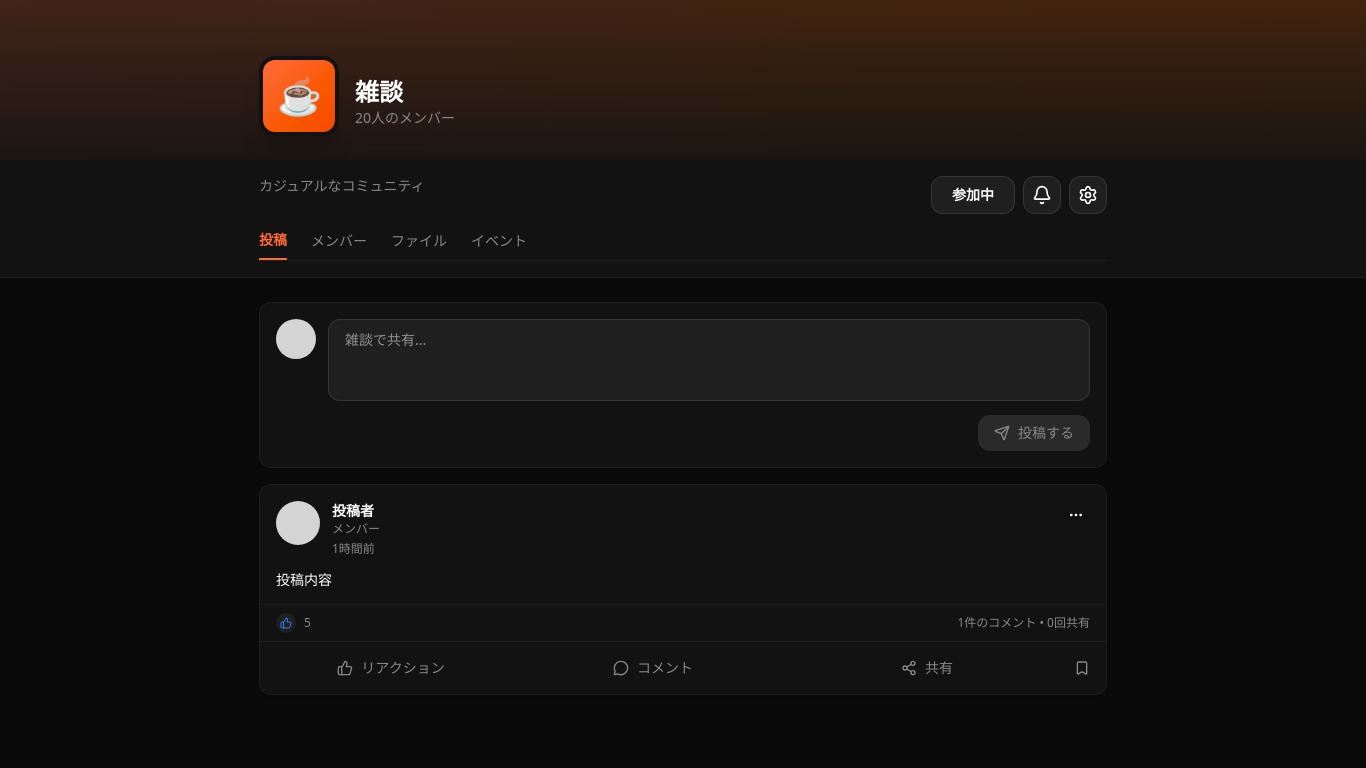
Profiles / CommentMetadata › should not display empty role placeholder for comments without role
The width and height of the screenshot is (1366, 768).
Click the button "コメント": (653, 668) x1=518 y1=650 x2=788 y2=686
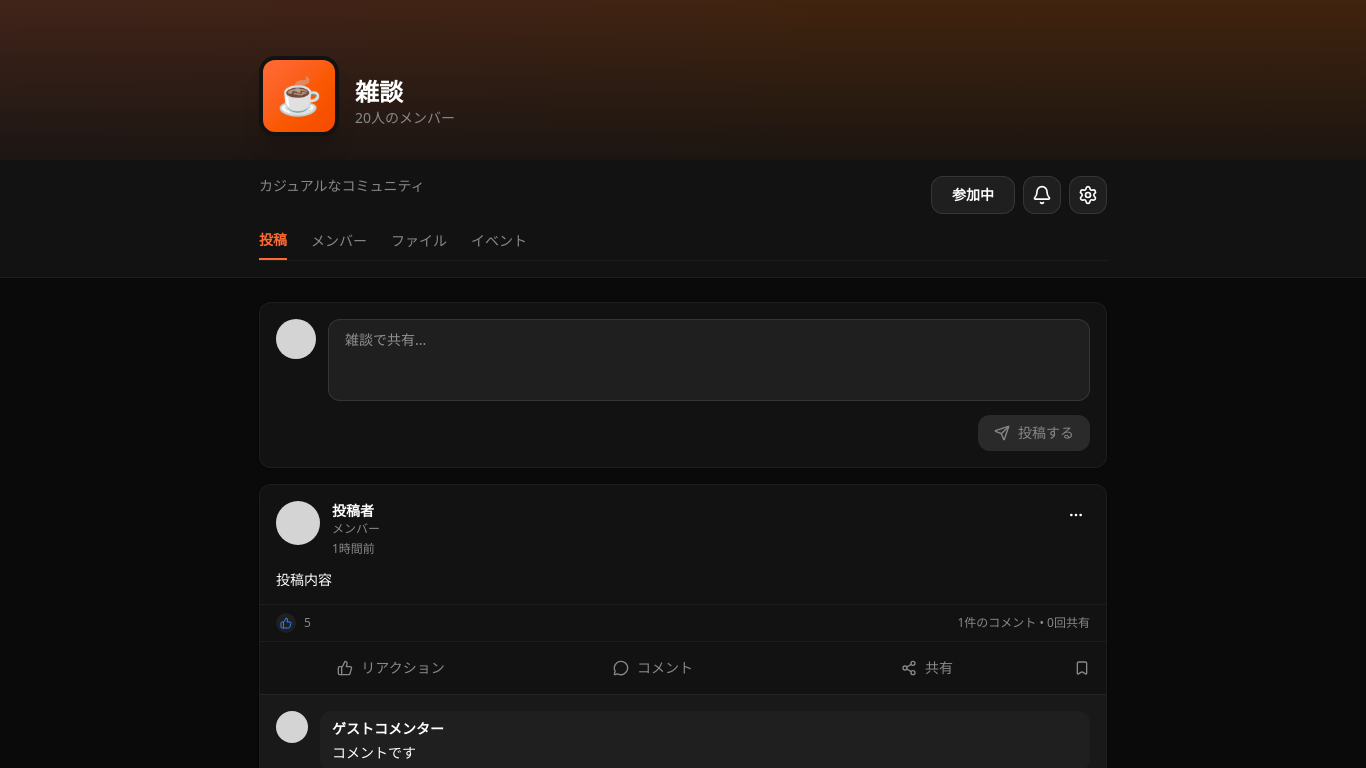
Now the heading "ゲストコメンター" is shown, box x1=332 y1=719 x2=444 y2=738
Now the text "コメントです" is shown, box x1=332 y1=743 x2=416 y2=762
